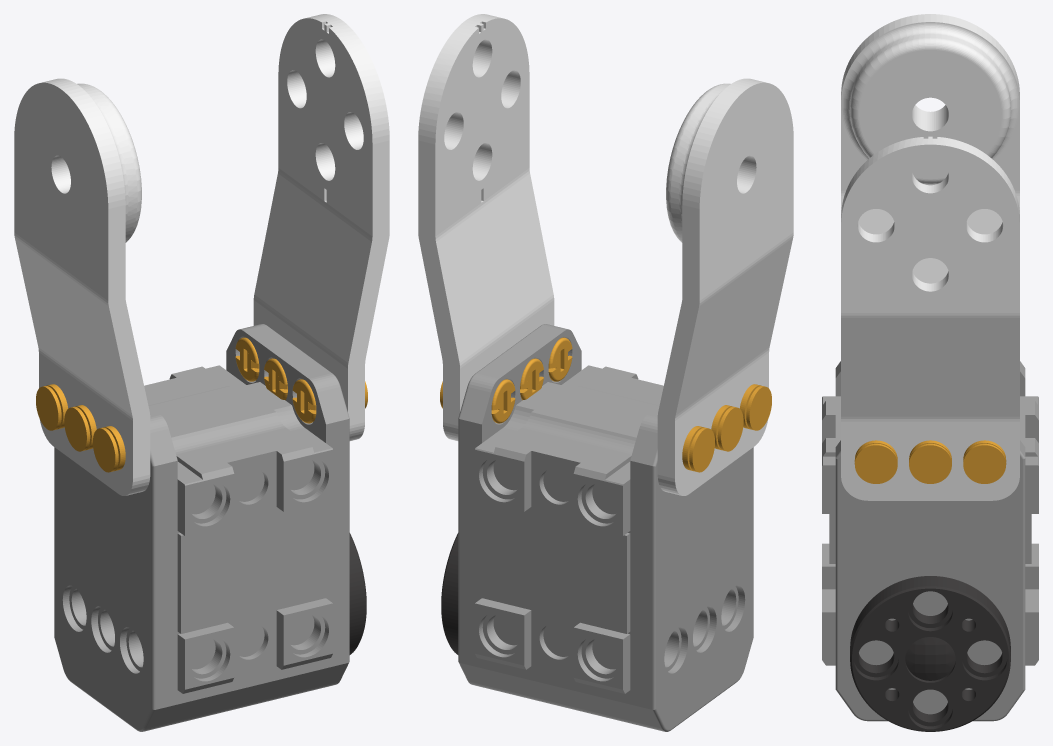
File: section_1.dae
3 views of the same model, side by side, from view 1: azimuth 30°, elevation 25°; view 2: azimuth 150°, elevation 25°; view 3: azimuth 270°, elevation 25° (orthographic). The views are drawn at different scales.
Parts seen in each view (by area): view 1: body, side2side, horn2horn, insert (×3), horn; view 2: body, side2side, horn2horn, insert (×3), horn; view 3: horn2horn, body, side2side, horn, insert (×3).
Boxes of the visible parts, x1=… form: body: x1=54, y1=324, x2=349, y2=731; side2side: x1=14, y1=78, x2=150, y2=495; horn2horn: x1=253, y1=14, x2=389, y2=440; insert (×3): x1=36, y1=386, x2=118, y2=472; horn: x1=349, y1=533, x2=366, y2=654; body: x1=458, y1=324, x2=753, y2=731; side2side: x1=657, y1=78, x2=793, y2=495; horn2horn: x1=418, y1=14, x2=554, y2=440; insert (×3): x1=689, y1=386, x2=771, y2=472; horn: x1=441, y1=533, x2=458, y2=654; horn2horn: x1=841, y1=136, x2=1019, y2=500; body: x1=822, y1=361, x2=1038, y2=721; side2side: x1=841, y1=14, x2=1019, y2=283; horn: x1=850, y1=576, x2=1010, y2=731; insert (×3): x1=854, y1=443, x2=1006, y2=483.
Bounding box in the file's own units: 0.0342 × 0.024 × 0.0729.
